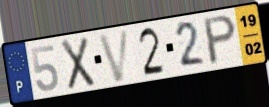2: (175, 19, 207, 72), (137, 26, 166, 78)
5: (29, 42, 61, 93)
P: (202, 13, 238, 68)
V: (96, 27, 132, 84)
X: (60, 35, 97, 92)
